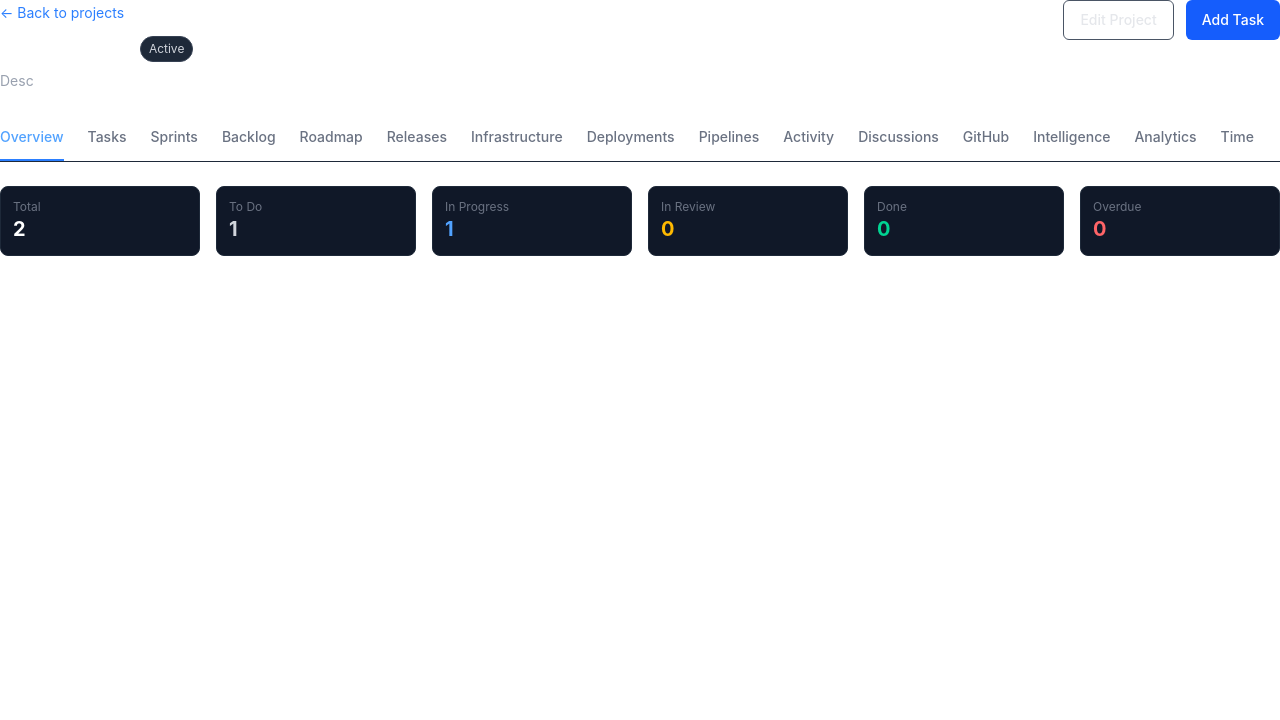
Scenario: ProjectDetails & Tasks › switches to list view
Check: the heading "Test Proj Active" is shown, box [0,31,193,67]
# Open the Tasks tab where the view switcher lives.
What coordinates should you click on to do the following:
click the button "Tasks"
I would click on:
 (107, 138)
Its box is [88,115,126,161].
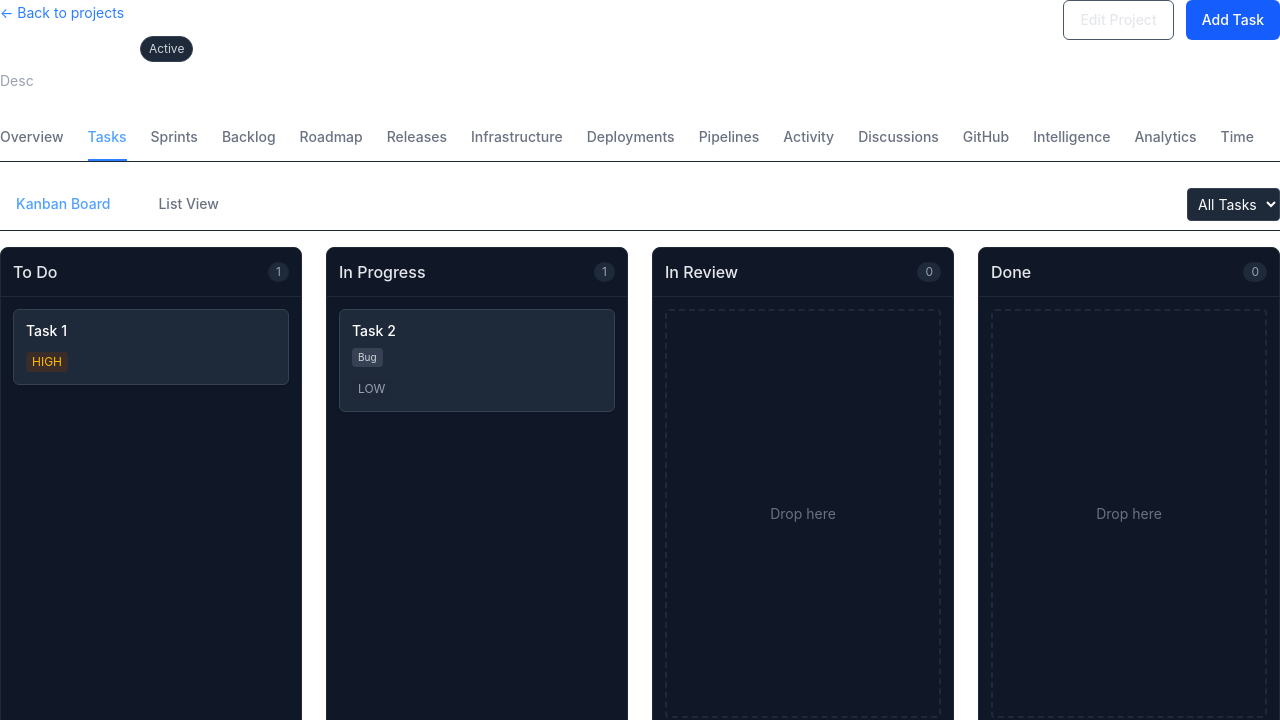
What coordinates should you click on to do the following:
click the button "List View"
I would click on:
 (189, 204)
Its box is [142,186,235,222].
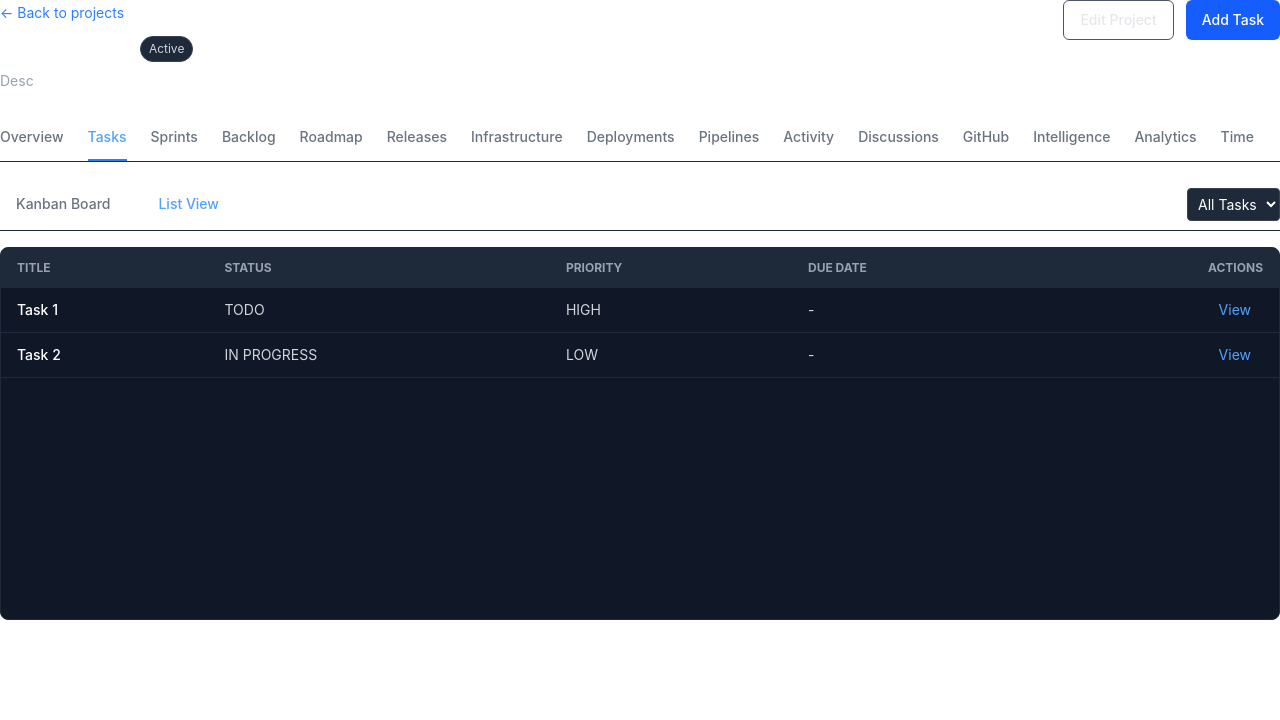
Check: the text "Task 1" is shown, box [17,301,58,318]
Check: the column heading "Title" is shown, box [1,248,208,288]
